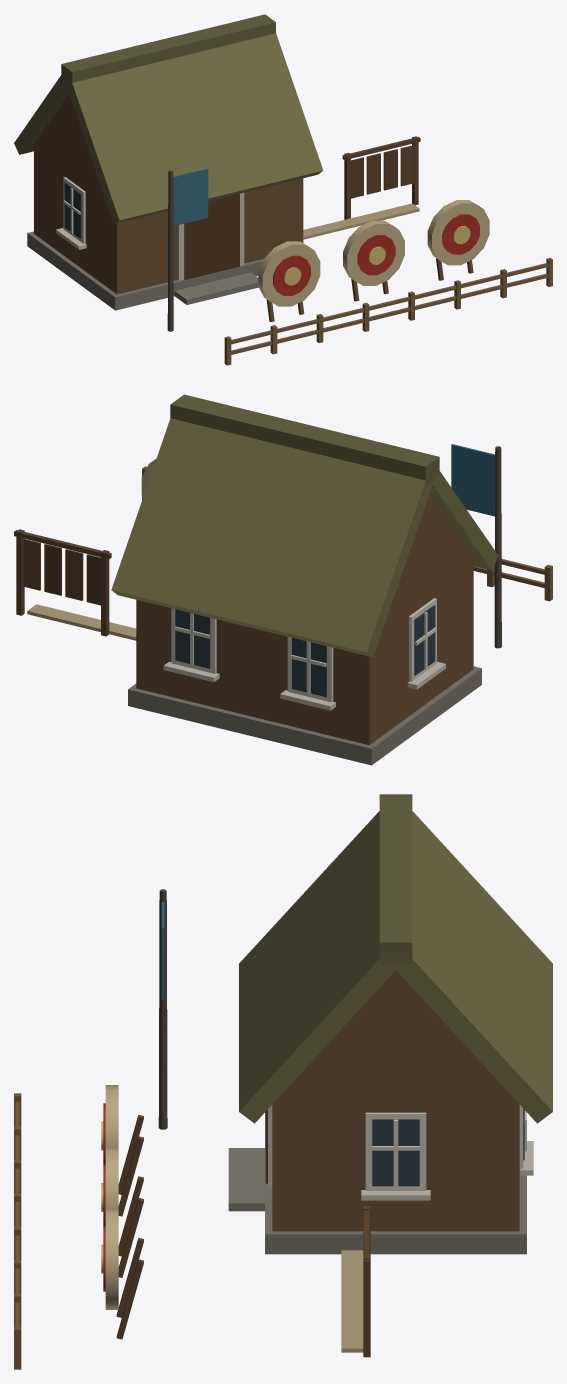
The model's file is procedural_crossbow_range@3.glb.
The picture shows the model from 3 angles, top to bottom: view 1: azimuth 30°, elevation 25°; view 2: azimuth 150°, elevation 25°; view 3: azimuth 270°, elevation 25°; orthographic projection. The views are drawn at different scales.
Visible parts, largest first — view 1: part_0; view 2: part_0; view 3: part_0.
Boxes of the visible parts, <box> form: part_0: <box>14,14,552,365</box>; part_0: <box>14,394,552,765</box>; part_0: <box>14,794,552,1369</box>.
Bounding box in the file's own units: 8.46 × 4.82 × 7.41.
